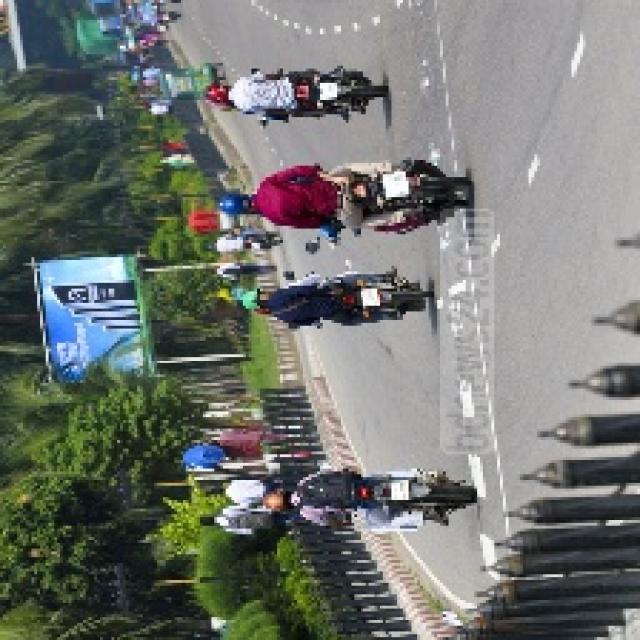bike: (328, 159, 475, 240), (337, 467, 484, 533), (265, 61, 398, 128), (308, 268, 436, 333), (231, 228, 291, 257)
